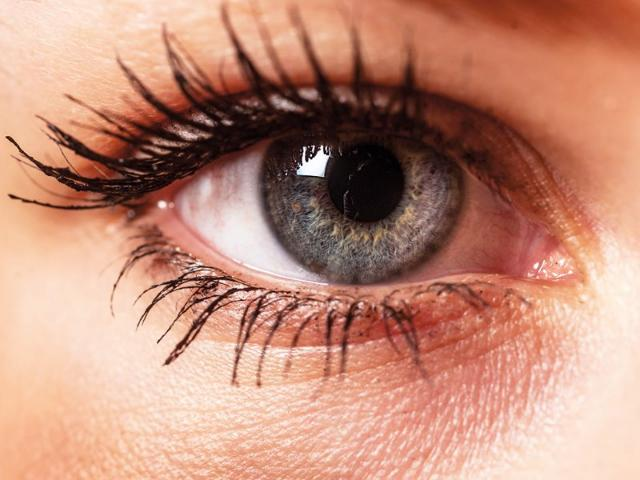eye: (261, 105, 465, 289)
